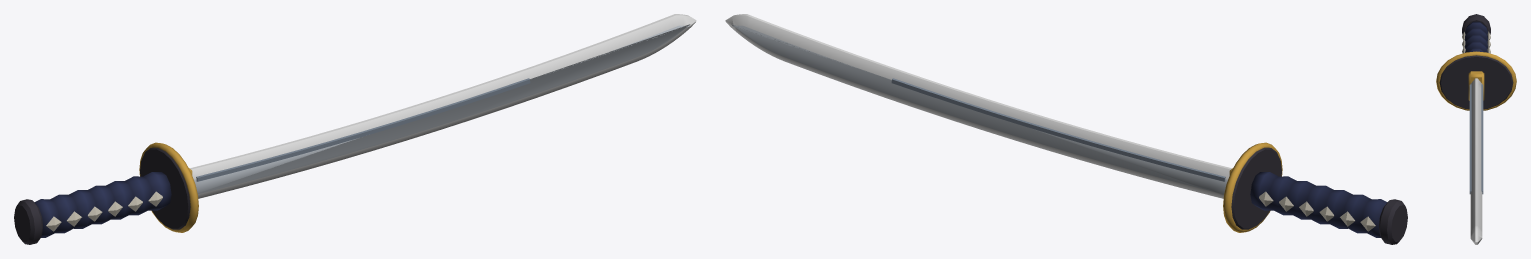
File: sword_katana.glb
3 renders of one model, left to right at view 1: azimuth 30°, elevation 25°; view 2: azimuth 150°, elevation 25°; view 3: azimuth 270°, elevation 25°, orthographic. The views are drawn at different scales.
Parts seen in each view (by area): view 1: sword_katana; view 2: sword_katana; view 3: sword_katana.
Boxes of the visible parts, <box> form: sword_katana: <box>14,14,696,244</box>; sword_katana: <box>725,14,1407,244</box>; sword_katana: <box>1436,14,1516,244</box>.
Size of the model in its own units: 1.45 by 0.1857 by 0.204.
